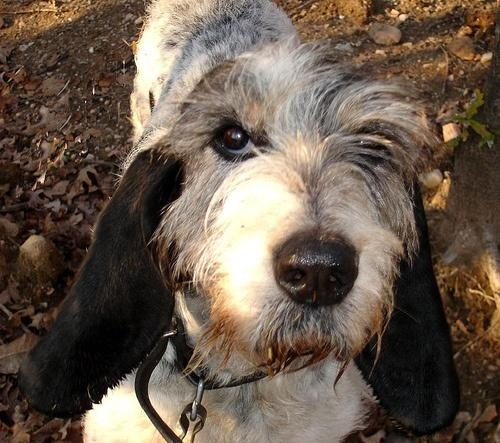dog: (18, 3, 468, 443)
